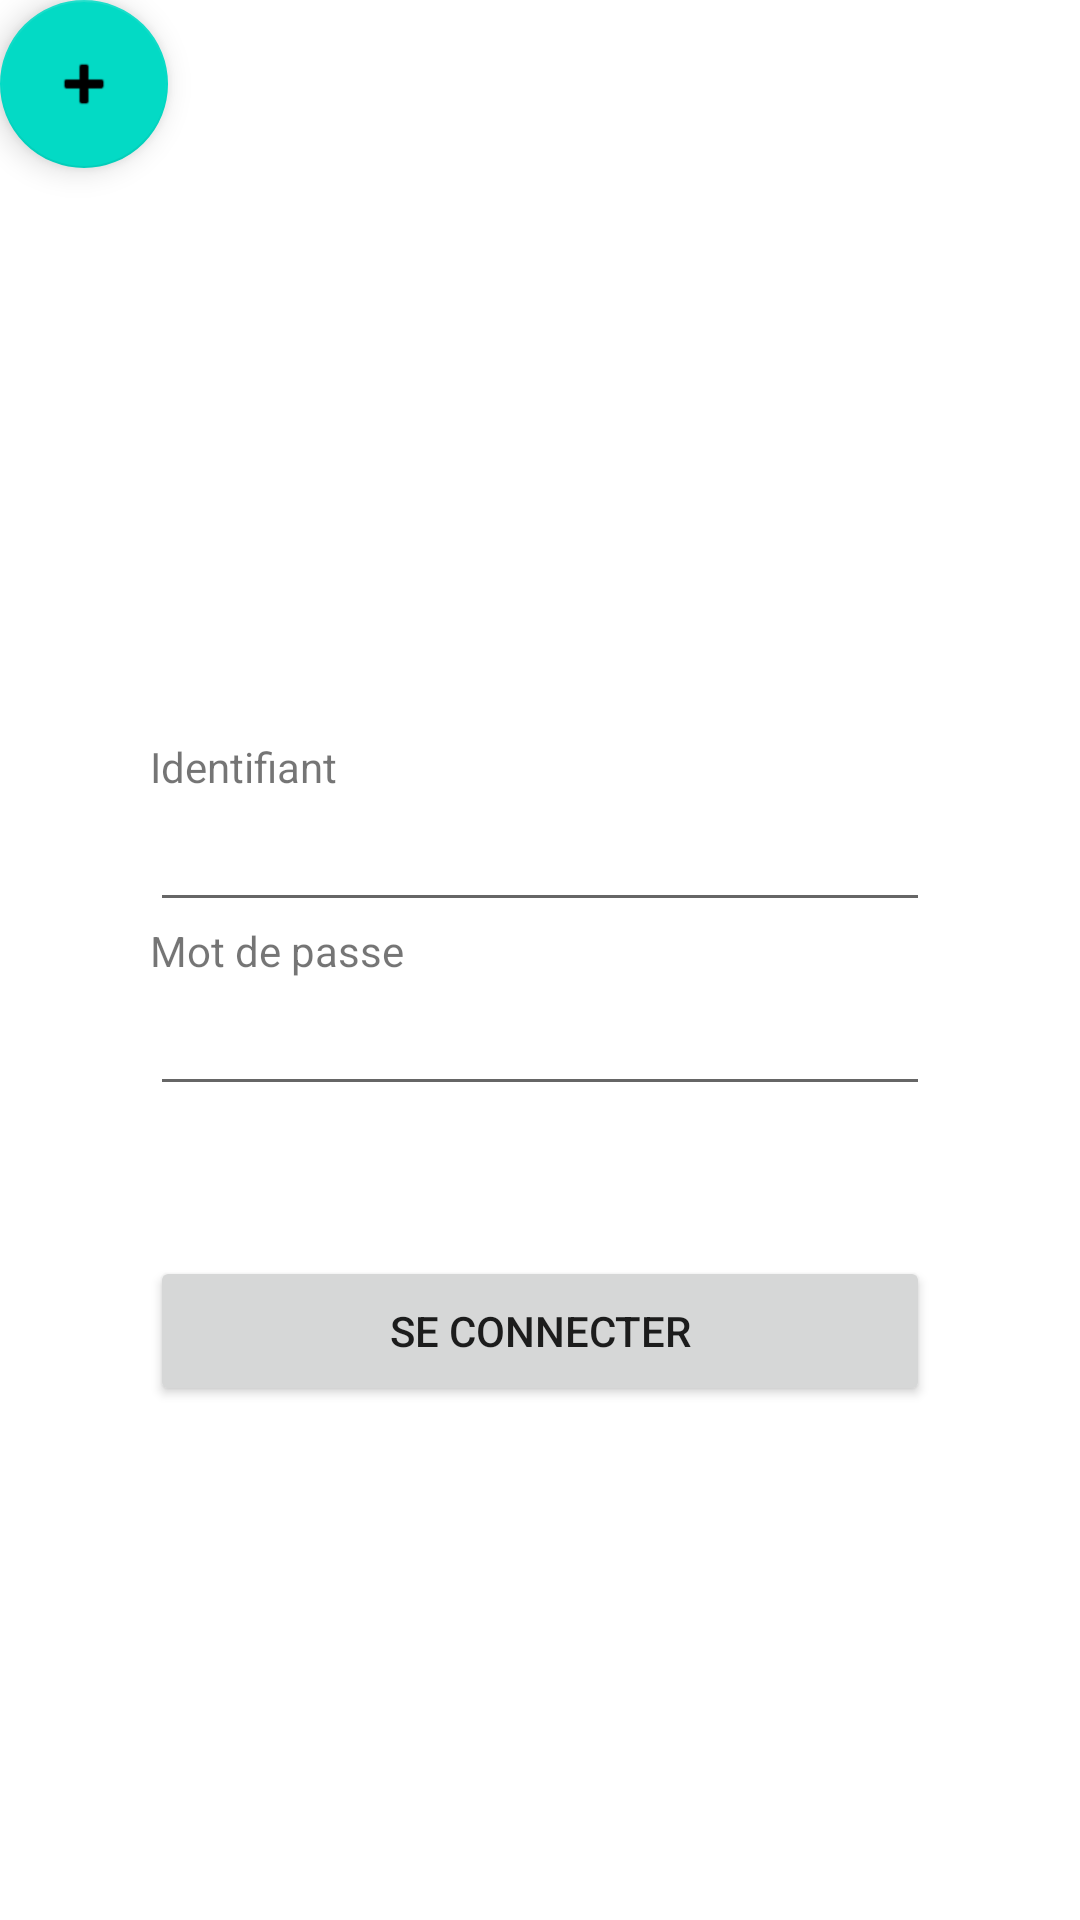

Icons on this 1080x1920 Android screen, each with the point to tap as [x,y]:
add: [84,84]
